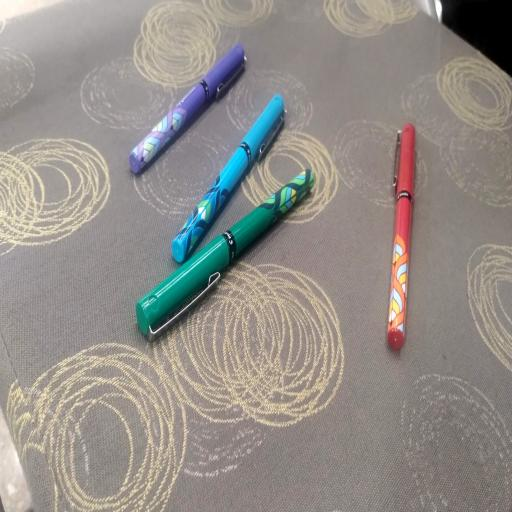pen: (136, 170, 313, 340), (171, 94, 285, 262), (130, 44, 245, 173), (388, 124, 415, 349)
